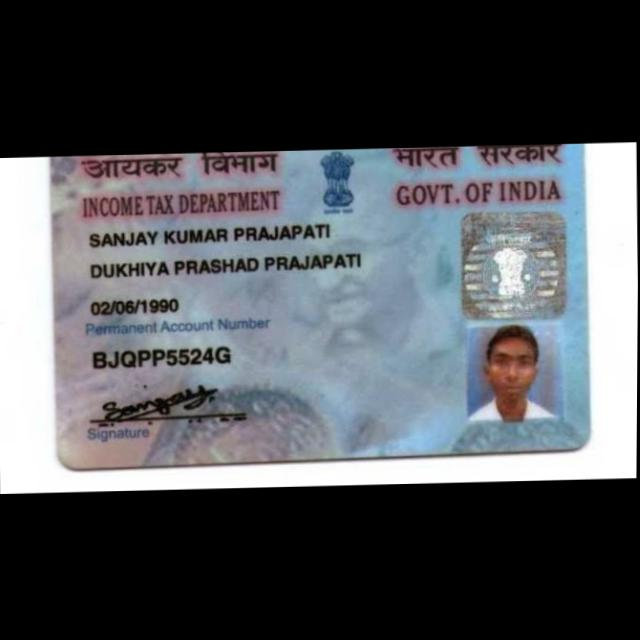pan: (45, 145, 596, 480)
